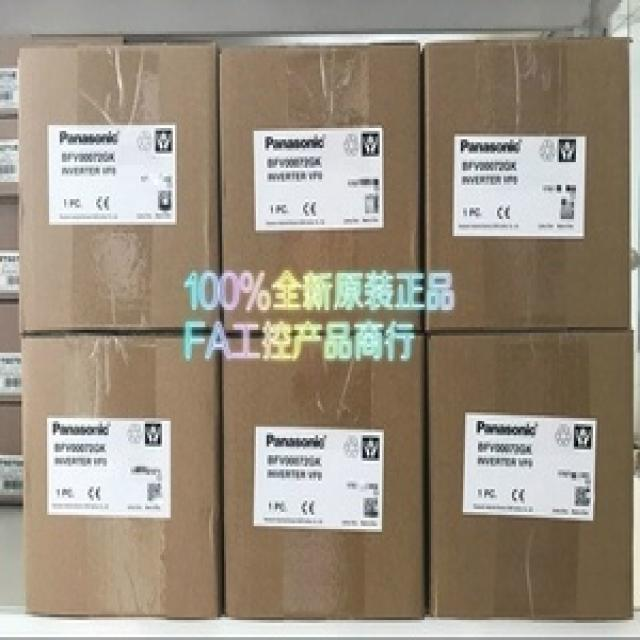box: (420, 35, 632, 332), (216, 43, 425, 335), (425, 330, 634, 619), (217, 334, 425, 618), (17, 45, 220, 334), (19, 333, 222, 616), (0, 401, 21, 504), (0, 302, 20, 404), (0, 199, 18, 302), (0, 119, 18, 202), (0, 52, 19, 119)
